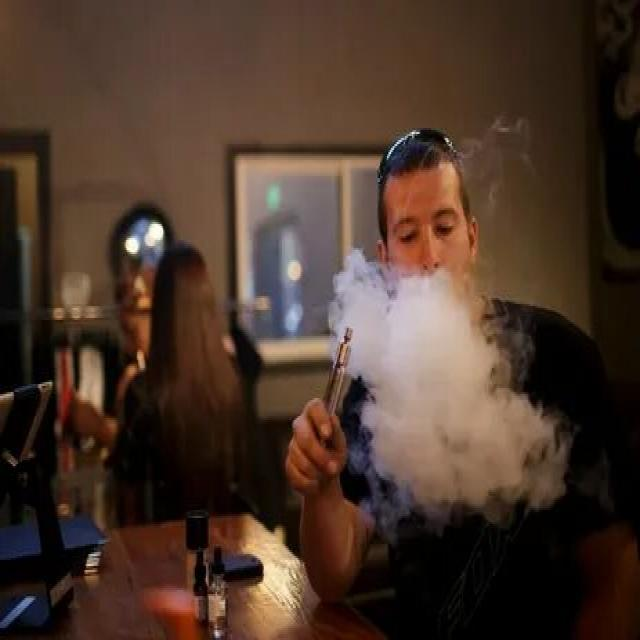cigarette: (322, 320, 355, 432)
